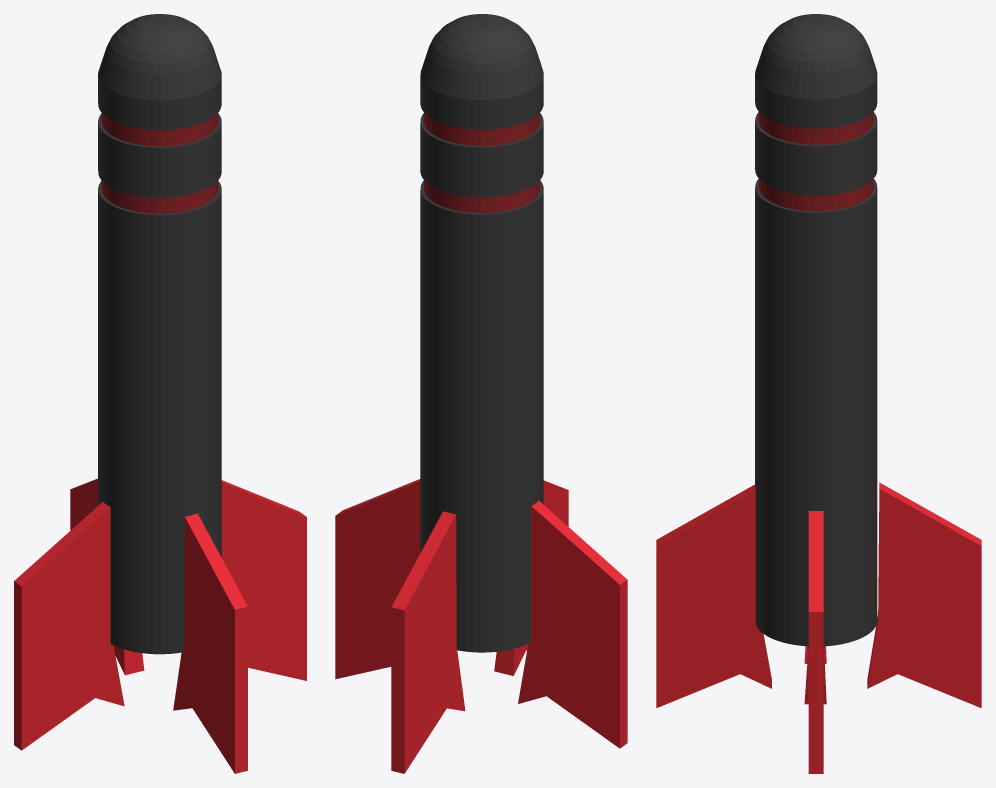
Rendered from lajzor.fbx.
The picture shows the model from 3 angles, left to right: view 1: azimuth 30°, elevation 25°; view 2: azimuth 150°, elevation 25°; view 3: azimuth 270°, elevation 25°; orthographic projection.
Visible parts, largest first — view 1: Cylinder.001, Cube.010, Cube.008, Cube.011, Cube.009; view 2: Cylinder.001, Cube.010, Cube.009, Cube.011, Cube.008; view 3: Cylinder.001, Cube.009, Cube.008, Cube.011.
Part boxes in pixels (x1,y1,x2,y2): Cylinder.001: (98, 14, 221, 654); Cube.010: (14, 502, 124, 750); Cube.008: (173, 513, 247, 773); Cube.011: (221, 480, 306, 680); Cube.009: (70, 478, 144, 675); Cylinder.001: (420, 14, 543, 652); Cube.010: (518, 500, 627, 748); Cube.009: (391, 511, 465, 773); Cube.011: (335, 479, 420, 679); Cube.008: (494, 480, 568, 675); Cylinder.001: (755, 14, 877, 646); Cube.009: (867, 482, 981, 707); Cube.008: (656, 484, 771, 707); Cube.011: (804, 511, 826, 773).
Size of the model in its own units: 102 by 236 by 102.
